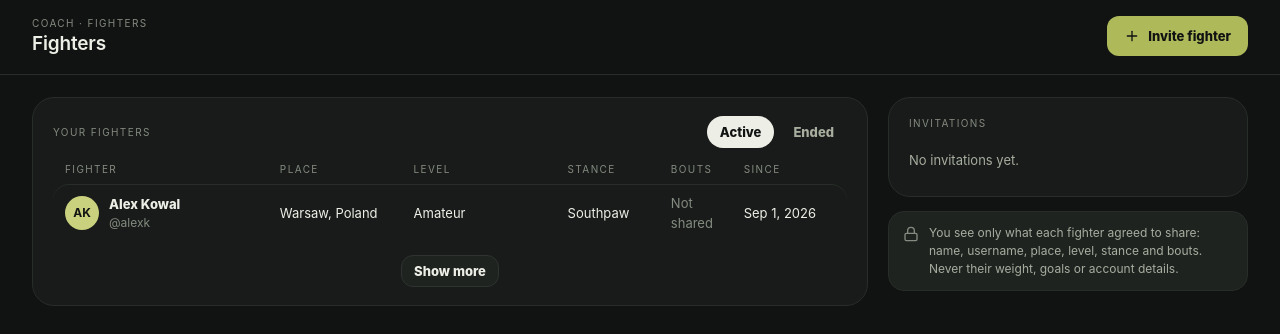
CoachFighters (WC7) roster › pages with the backend cursor
Click the button "Show more" at [450, 271], box [401,255,499,287]
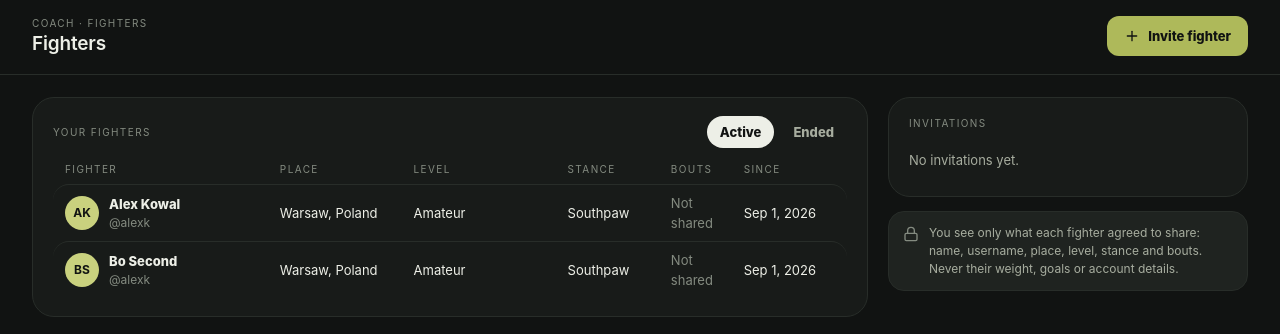
Check: the row "Alex Kowal" is shown, box [53,184,847,241]
Check: the row "Bo Second" is shown, box [53,241,847,298]
Check: the button "Show more" is gone
